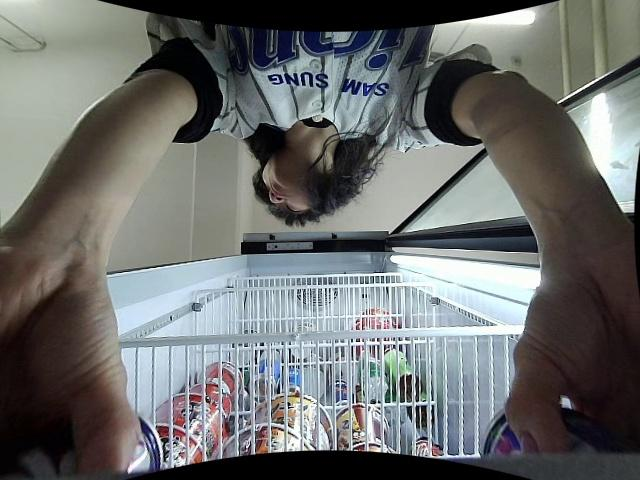00_hand: (0, 240, 138, 480), (502, 236, 640, 455)
14_welchsGrape: (4, 403, 166, 480), (479, 400, 638, 455)
